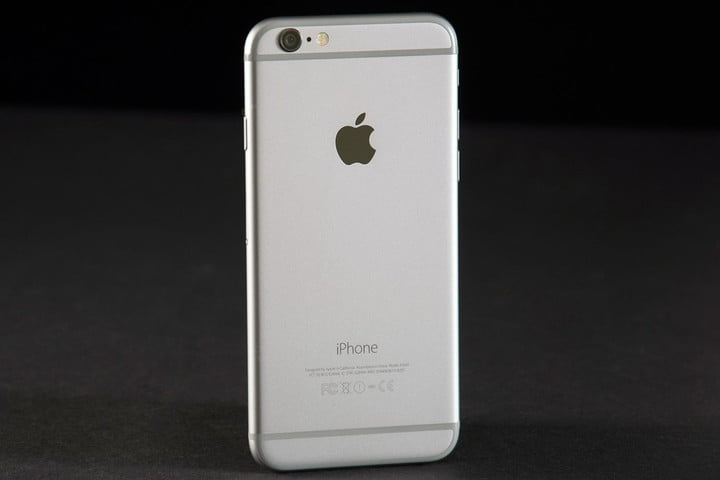apple: (314, 108, 404, 169)
